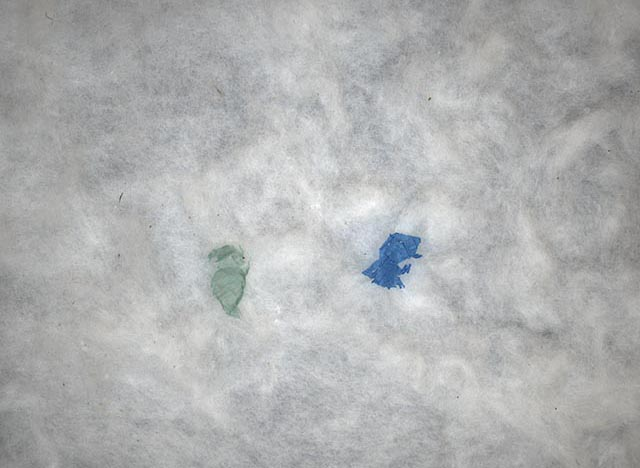plastic film: (359, 230, 424, 292), (205, 243, 250, 319)
